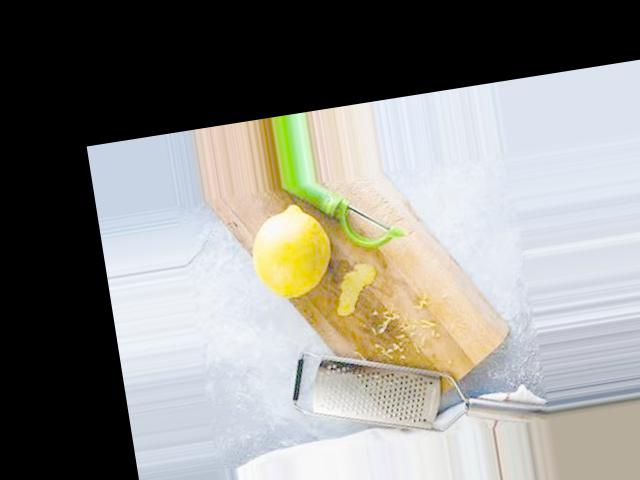lemon: (239, 189, 348, 319)
